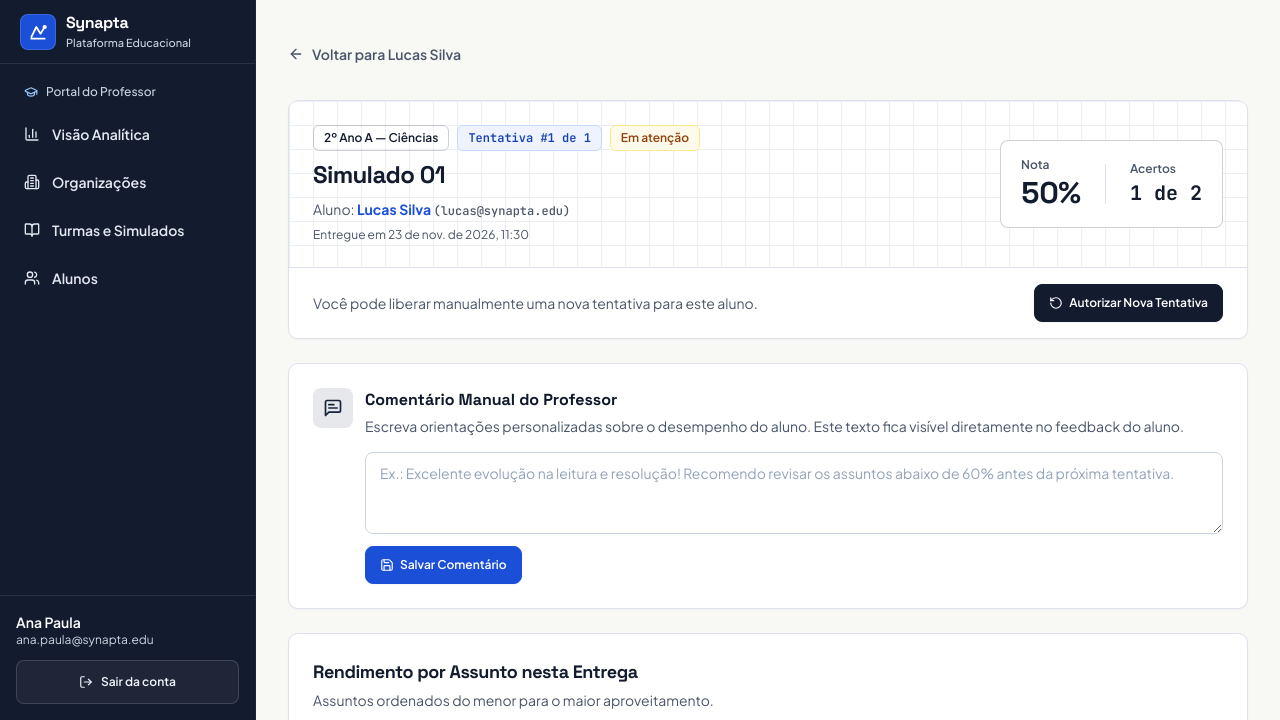
Test case: TeacherDashboard › permite ao professor escrever comentário manual e autorizar nova tentativa na página de entrega
In the text box named "comentário manual do professor": (794, 493) [365, 452, 1223, 534], type "Continue praticando interpretação textual!"
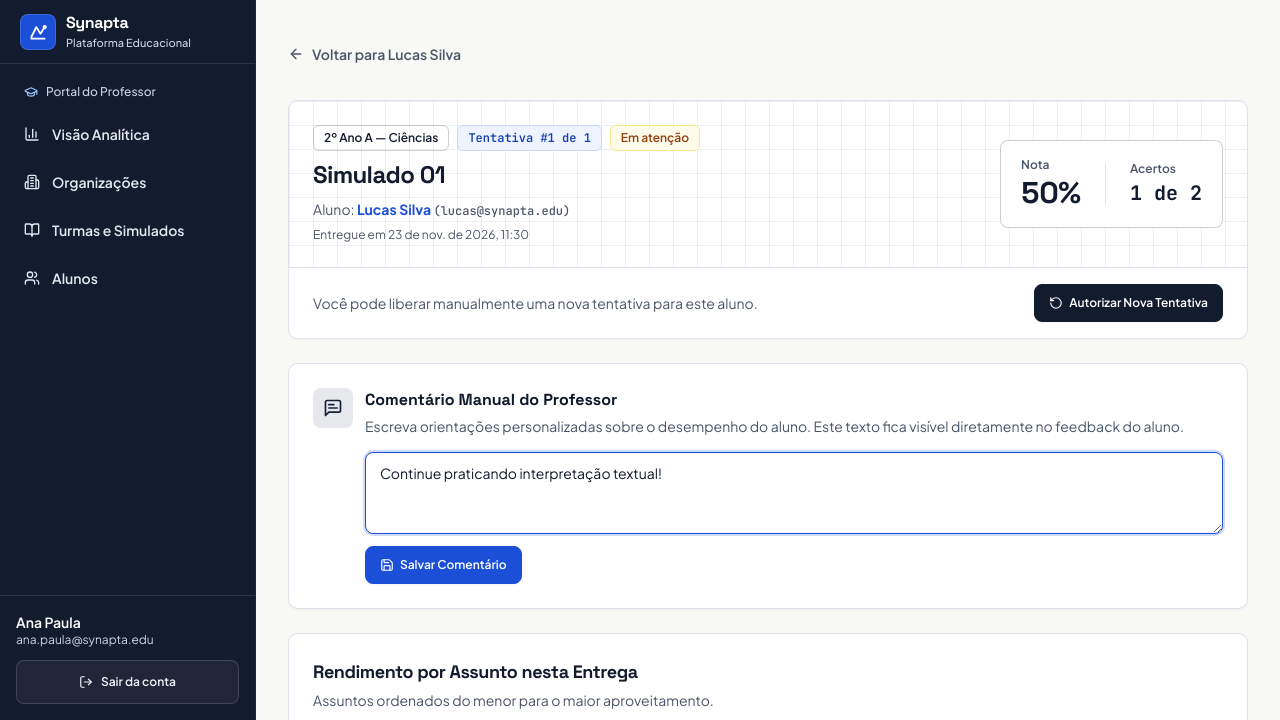
Click the button "Salvar Comentário": (443, 565) [365, 546, 522, 584]
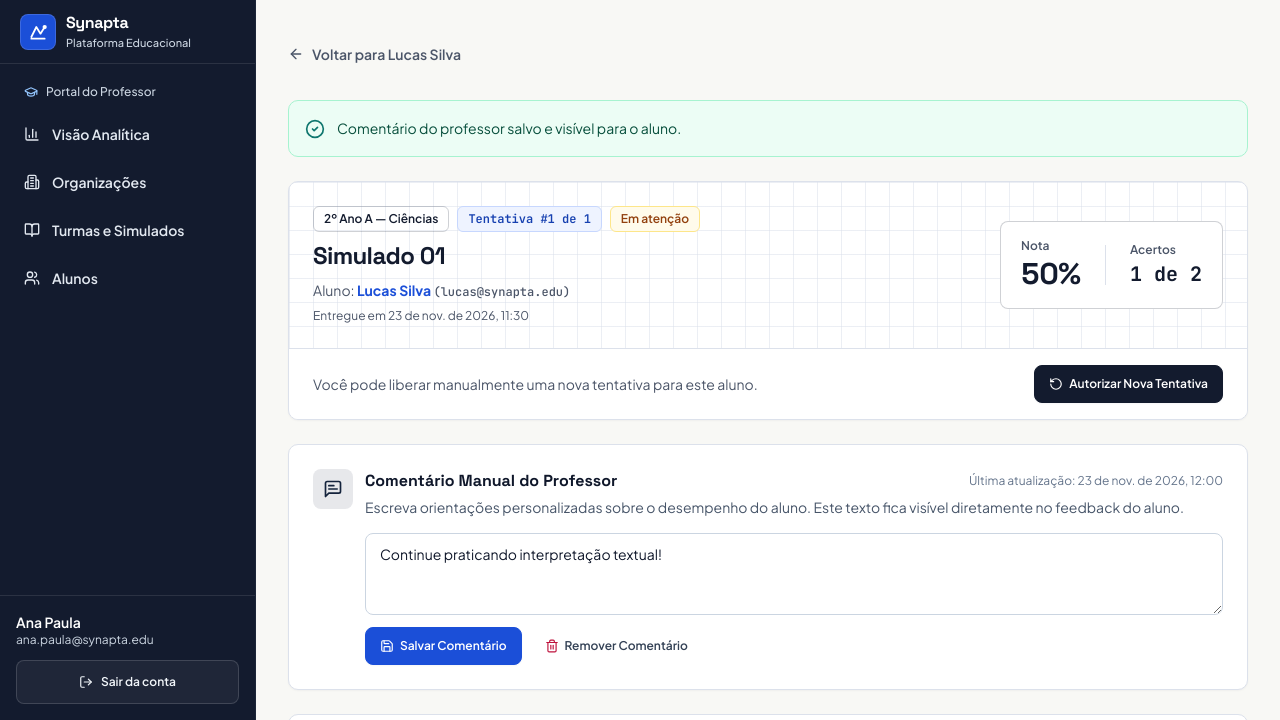
Expected: the text "Comentário do professor salvo e visível para o aluno." is shown, [337, 119, 681, 137]
